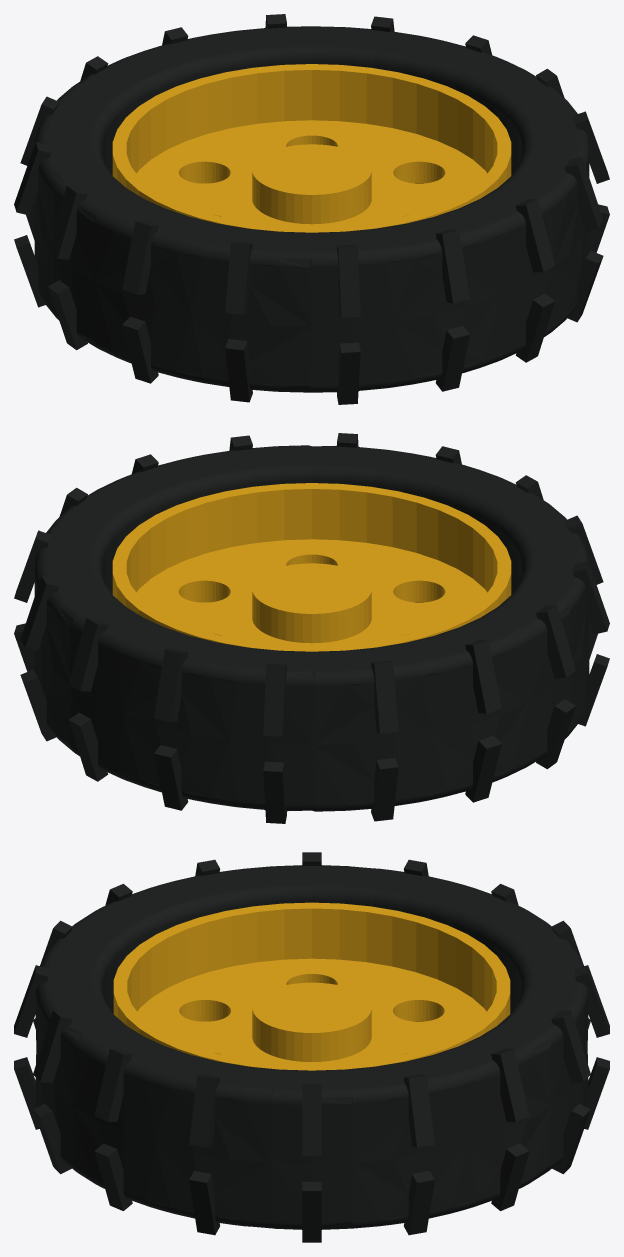
File: rear_right_wheel_link.obj
3 renders of one model, top to bottom at view 1: azimuth 30°, elevation 25°; view 2: azimuth 150°, elevation 25°; view 3: azimuth 270°, elevation 25°, orthographic.
Parts seen in each view (by area): view 1: tyre_0, rim_1; view 2: tyre_0, rim_1; view 3: tyre_0, rim_1.
Part boxes in pixels (left/top/right/bottom): tyre_0: left=14, top=14, right=609, bottom=404; rim_1: left=112, top=64, right=511, bottom=232; tyre_0: left=14, top=433, right=609, bottom=823; rim_1: left=112, top=483, right=511, bottom=651; tyre_0: left=14, top=852, right=609, bottom=1242; rim_1: left=113, top=902, right=510, bottom=1070.
Bounding box in the file's own units: 1.55 × 0.4508 × 1.55.
